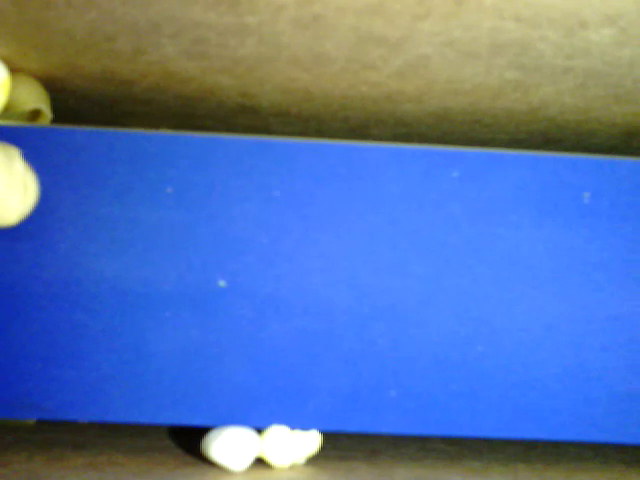shell: (3, 70, 62, 125)
